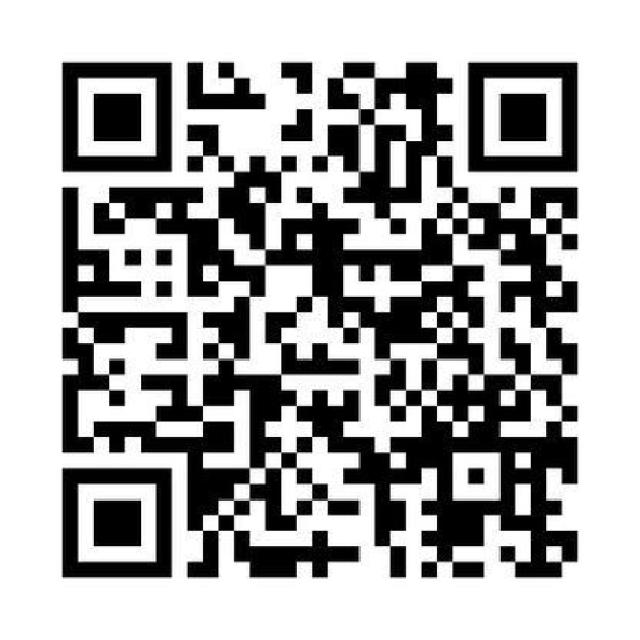QRCode: (50, 44, 593, 597)
